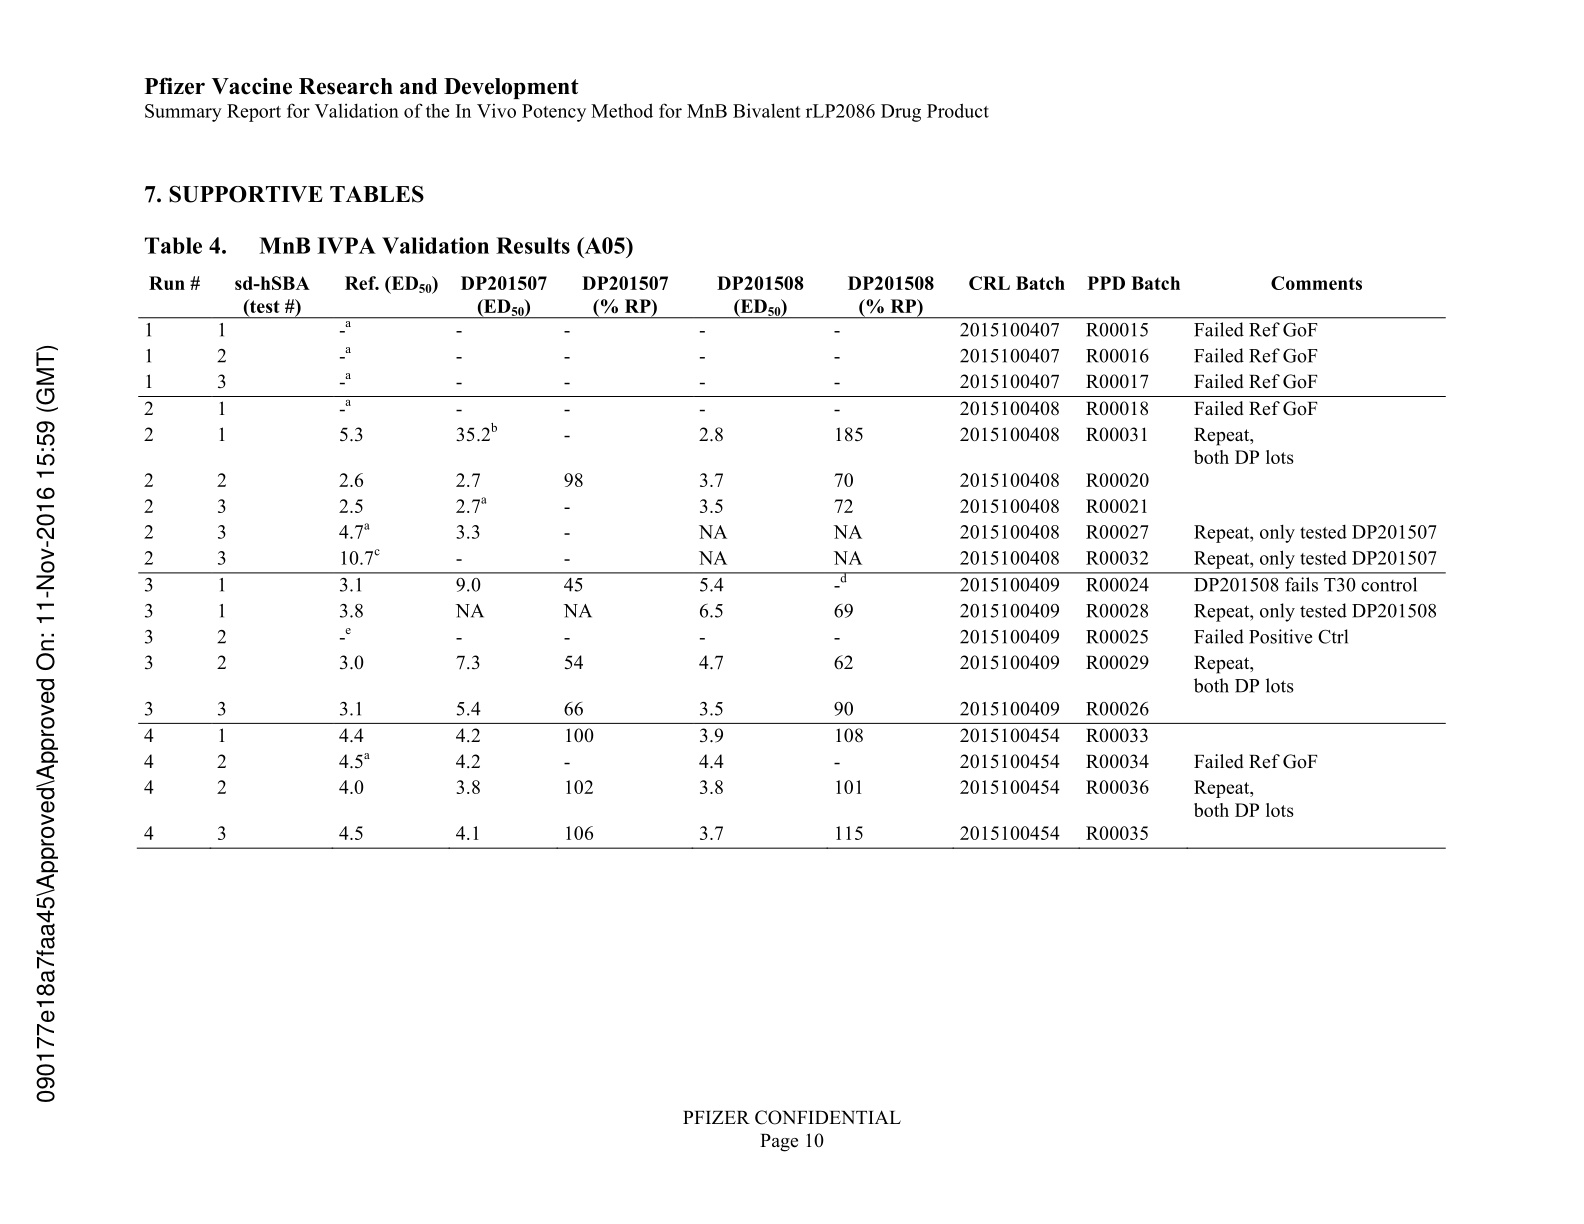partial_lined: (130, 267, 1446, 850)
